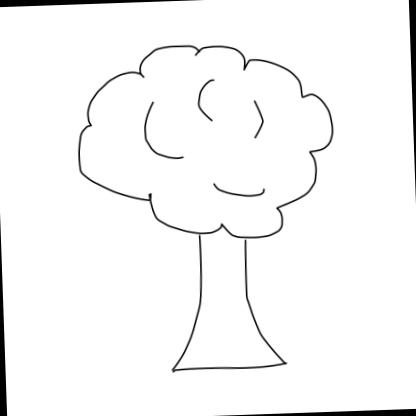crown_cloud: (75, 40, 337, 244)
trunk_straight: (180, 249, 268, 346)
